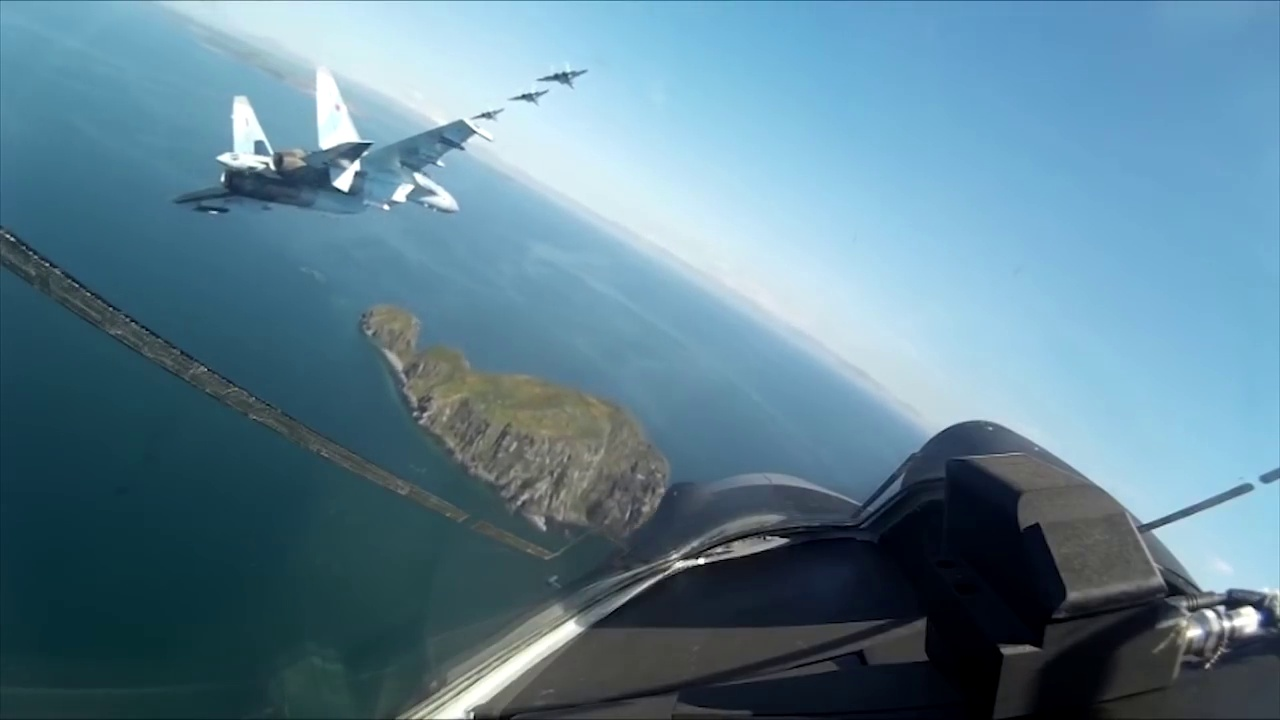Su35: (156, 60, 555, 224), (533, 63, 589, 92), (502, 83, 552, 110), (465, 100, 507, 126)
